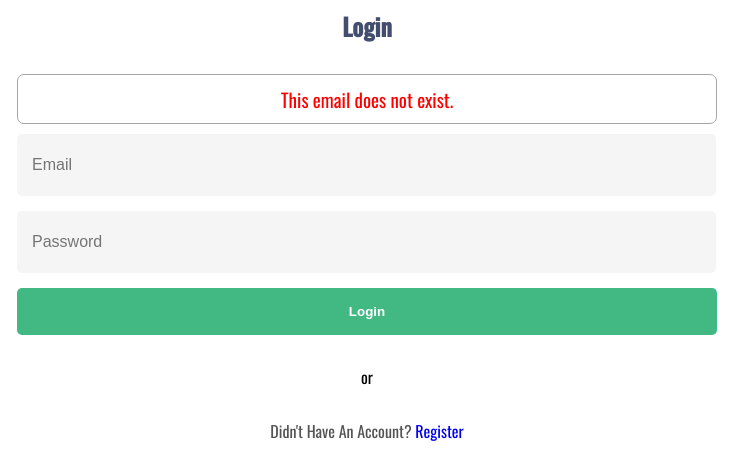
Scenario: login component interaction › password authentication
Type "test@gmail.com" into the field with placeholder "Email" at (366, 165), box [17, 134, 716, 196]
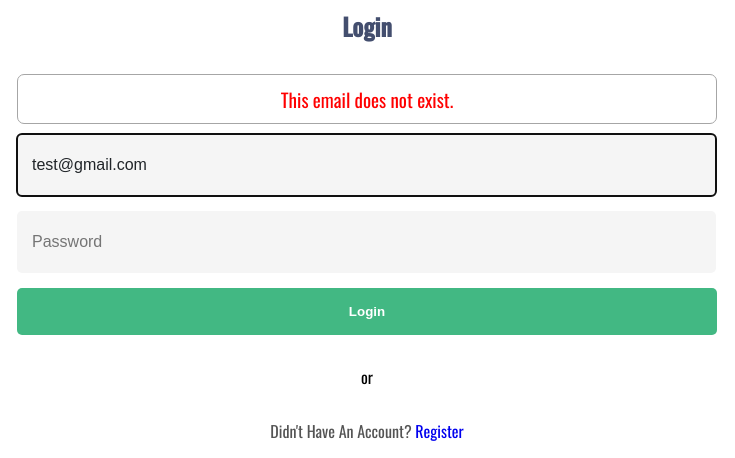
Type "1234" into the password field with placeholder "Password" at (366, 242), box [17, 211, 716, 273]
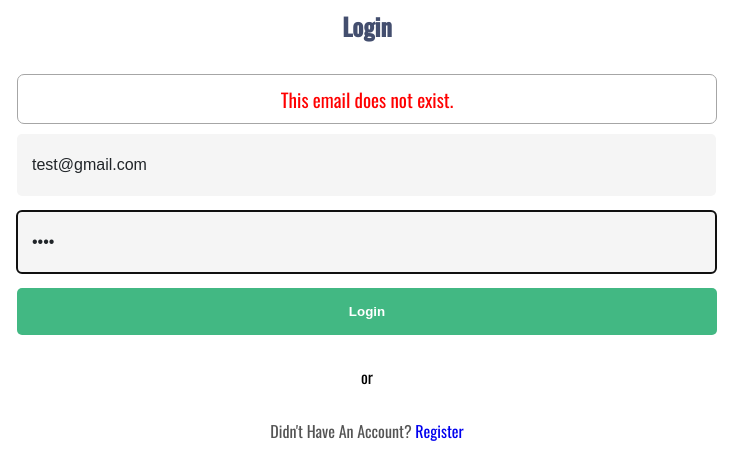
Click the button "Login" at (367, 312), box [17, 288, 717, 335]
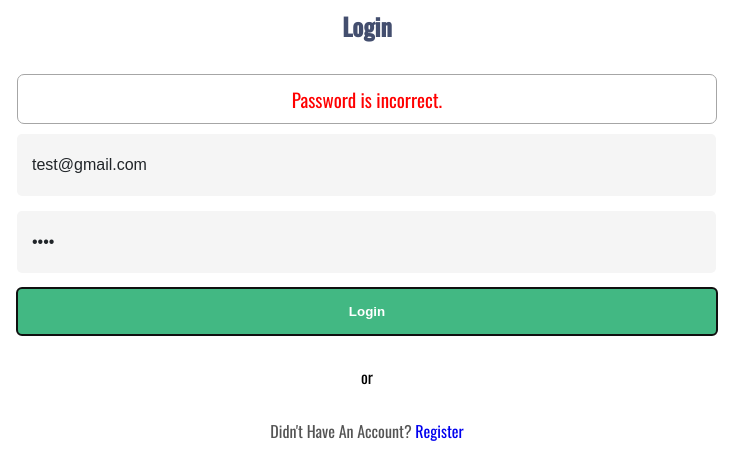
expect the text "Password is incorrect." is shown: met, box [17, 74, 717, 124]
